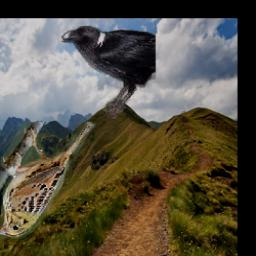Crow: (61, 25, 156, 119)
Sparrow: (0, 122, 95, 239)
